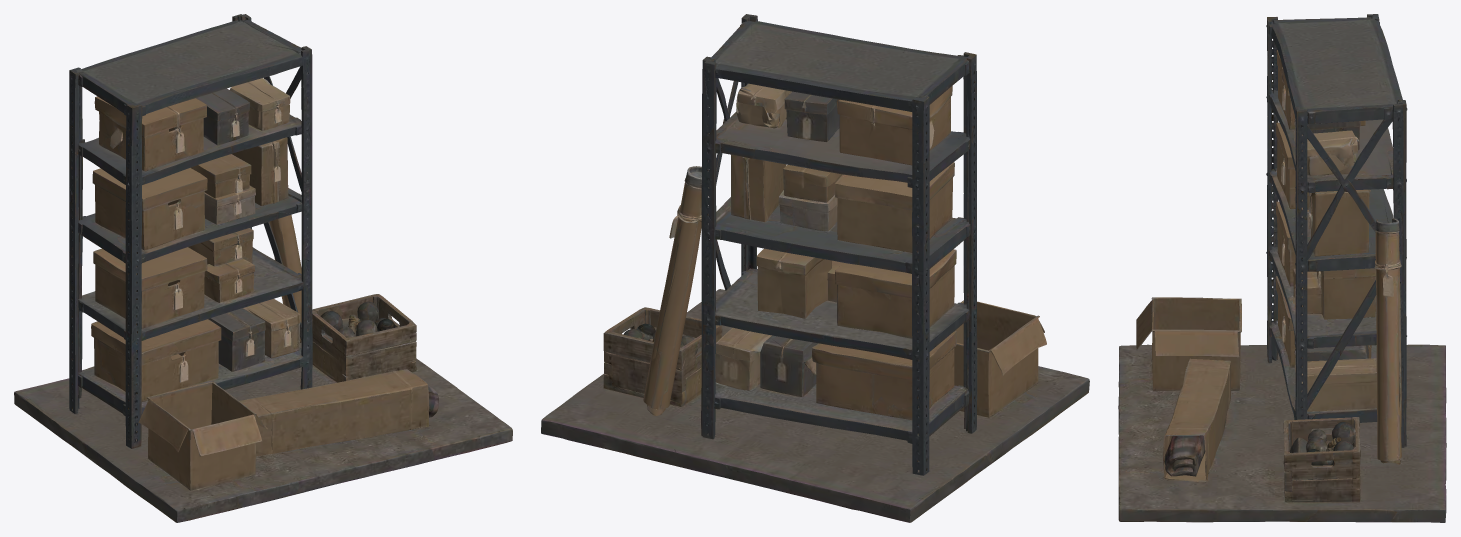
3 views of the same model, side by side, from view 1: azimuth 30°, elevation 25°; view 2: azimuth 150°, elevation 25°; view 3: azimuth 270°, elevation 25° (orthographic). The views are drawn at different scales.
Visible parts, largest first — view 1: escala_real; view 2: escala_real; view 3: escala_real.
Part boxes in pixels (x1,y1,x2,y2): escala_real: (14,14,512,522); escala_real: (541,14,1089,522); escala_real: (1118,14,1446,522).
Bounding box in the file's own units: 2.08 × 2.1 × 1.74.
Materials: 1 (1 with a texture image).
